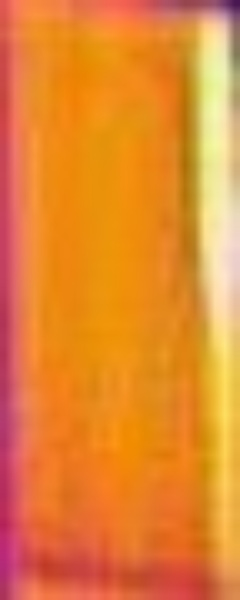Diode: (186, 3, 237, 548)
